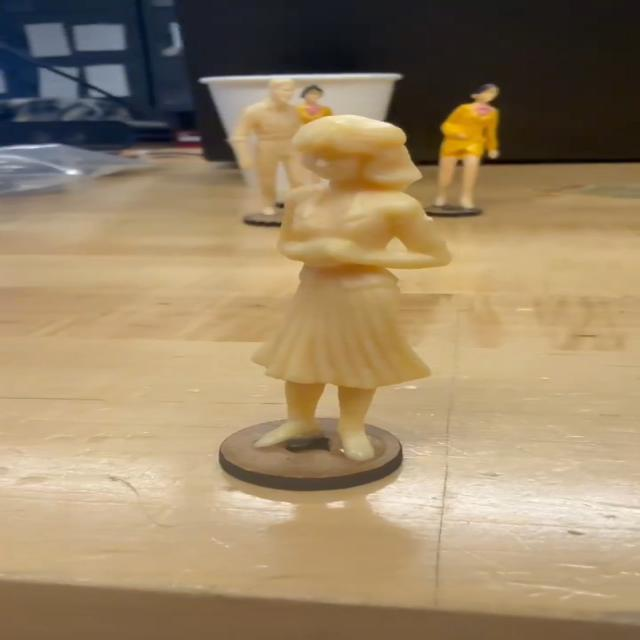Unauthorized: (259, 110, 456, 468)
